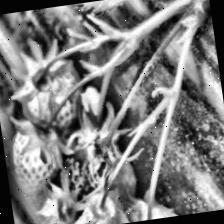Gray Mold: (76, 122, 148, 187)
